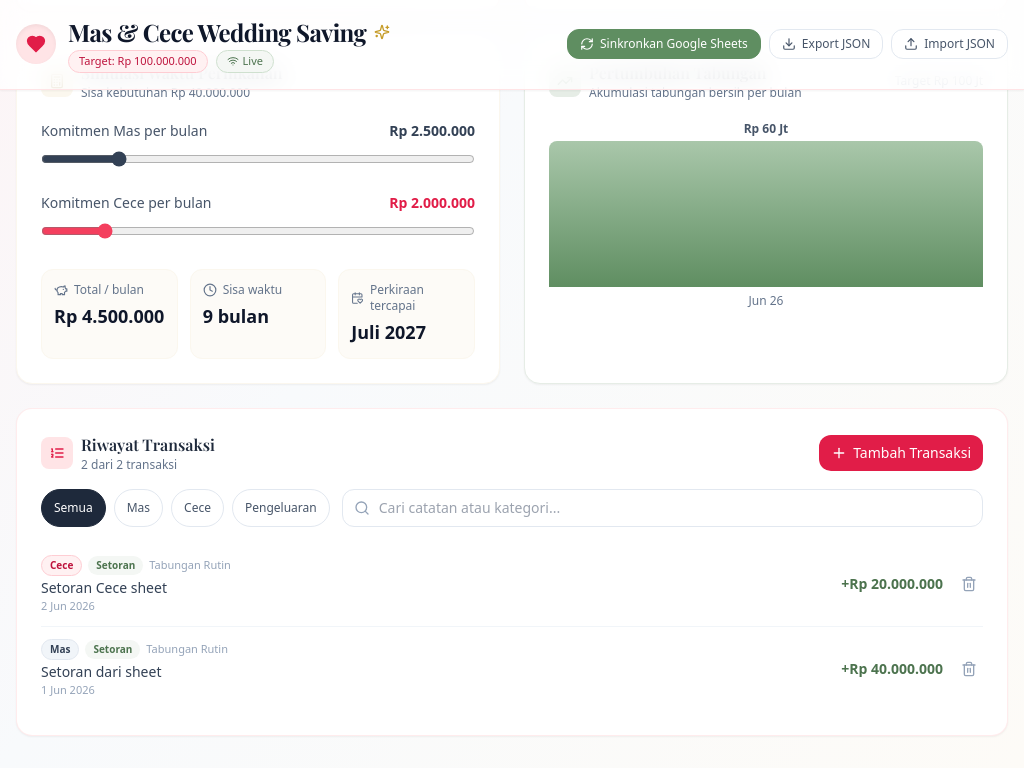
Test: App Component › with Google Sheet write enabled › keeps the modal open with the error when the Sheet rejects
This screenshot has width=1024, height=768.
(page scrolled)
Expected: the element with test id "sync-status" reads "Live", top-left (243, 53), bottom-right (263, 68)
Click the button "Tambah Transaksi". click: (901, 452)
box: top-left (819, 434), bottom-right (983, 470)
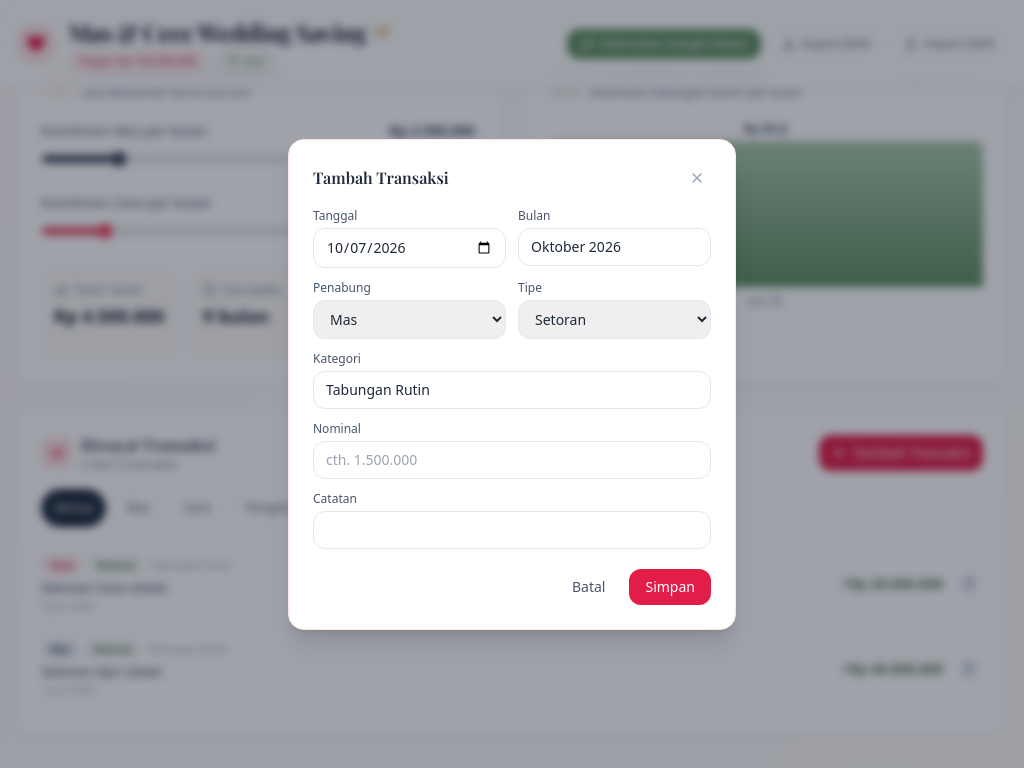
Type "1000000" into the field labelled "Nominal". click: (512, 460)
box: top-left (313, 440), bottom-right (711, 478)
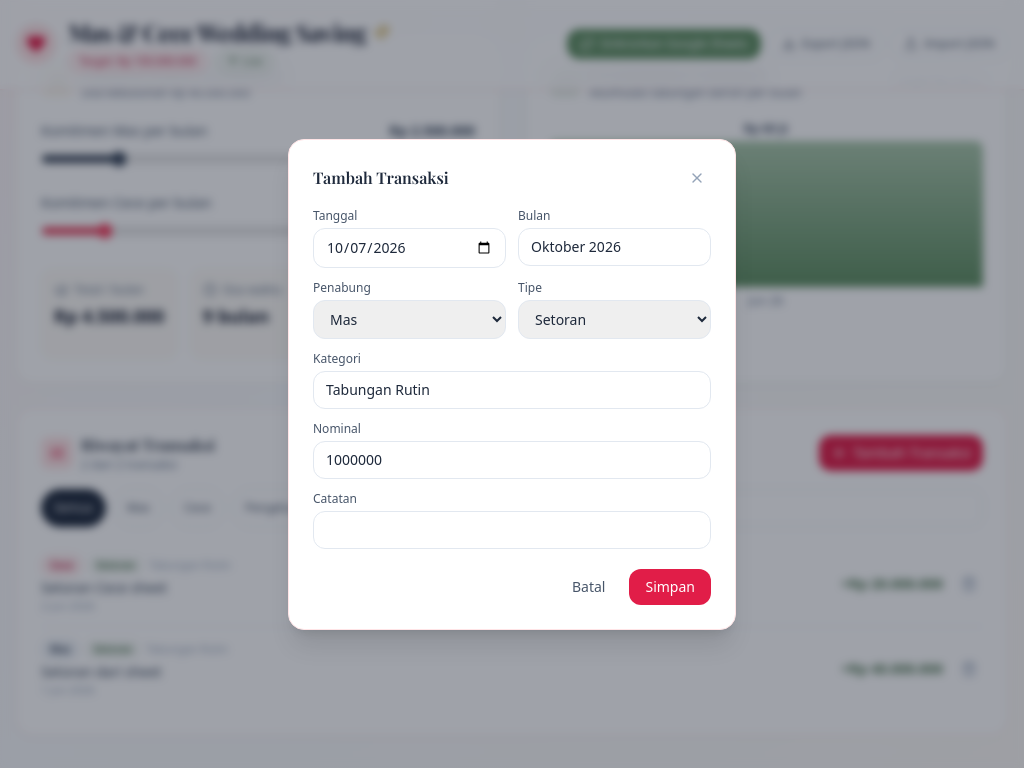
Type "Gagal simpan" into the field labelled "Catatan". click: (512, 530)
box: top-left (313, 510), bottom-right (711, 548)
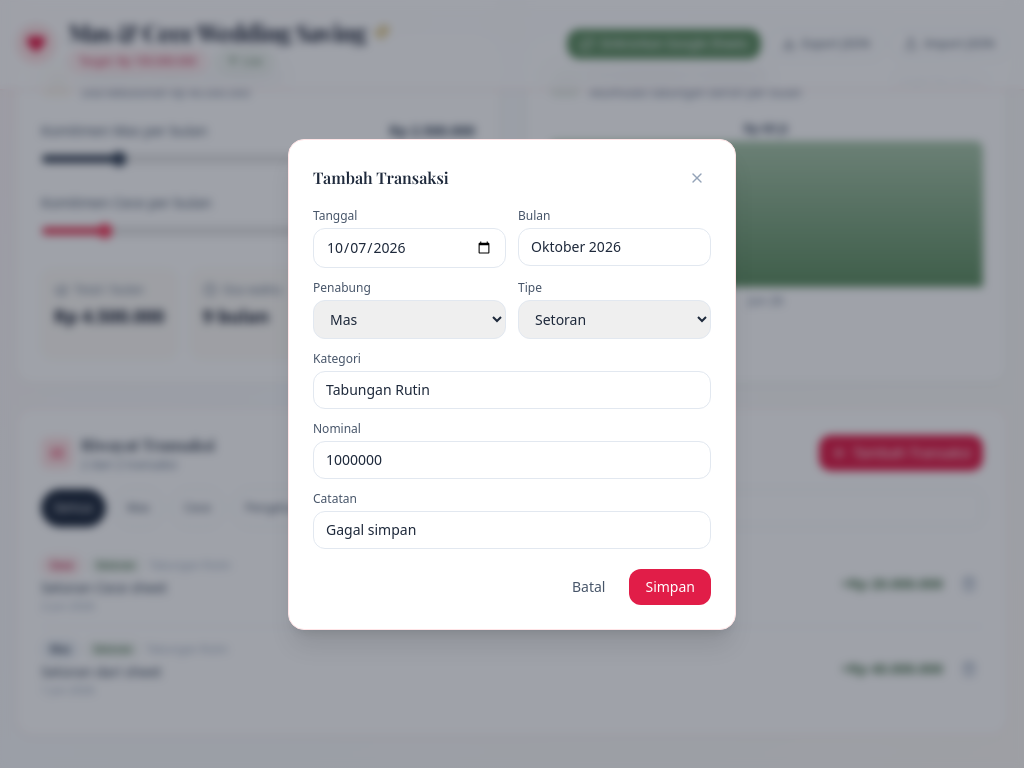
Click the button "Simpan". click: (670, 586)
box: top-left (630, 568), bottom-right (711, 604)
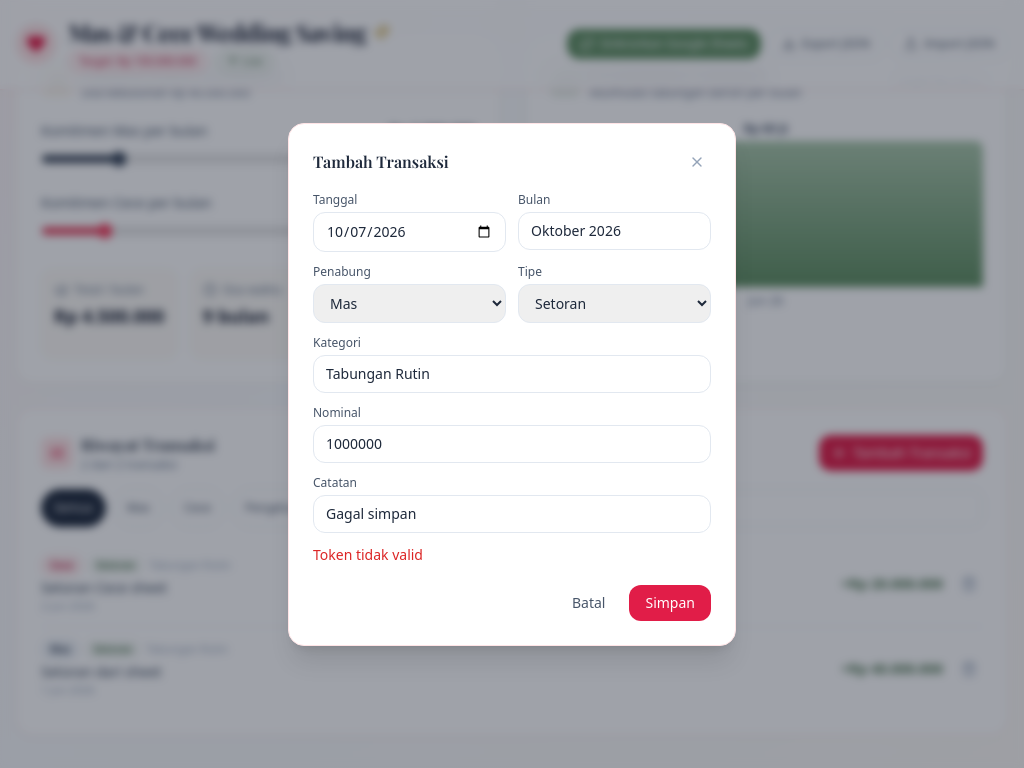
Expected: the message reads "Token tidak valid", top-left (313, 544), bottom-right (423, 564)
